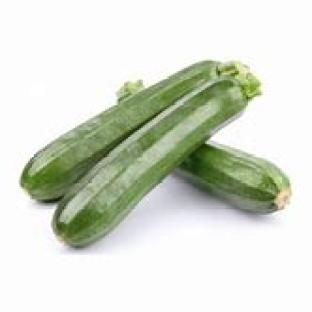Zucchini: (53, 68, 259, 246), (21, 61, 236, 201), (179, 143, 291, 213)
